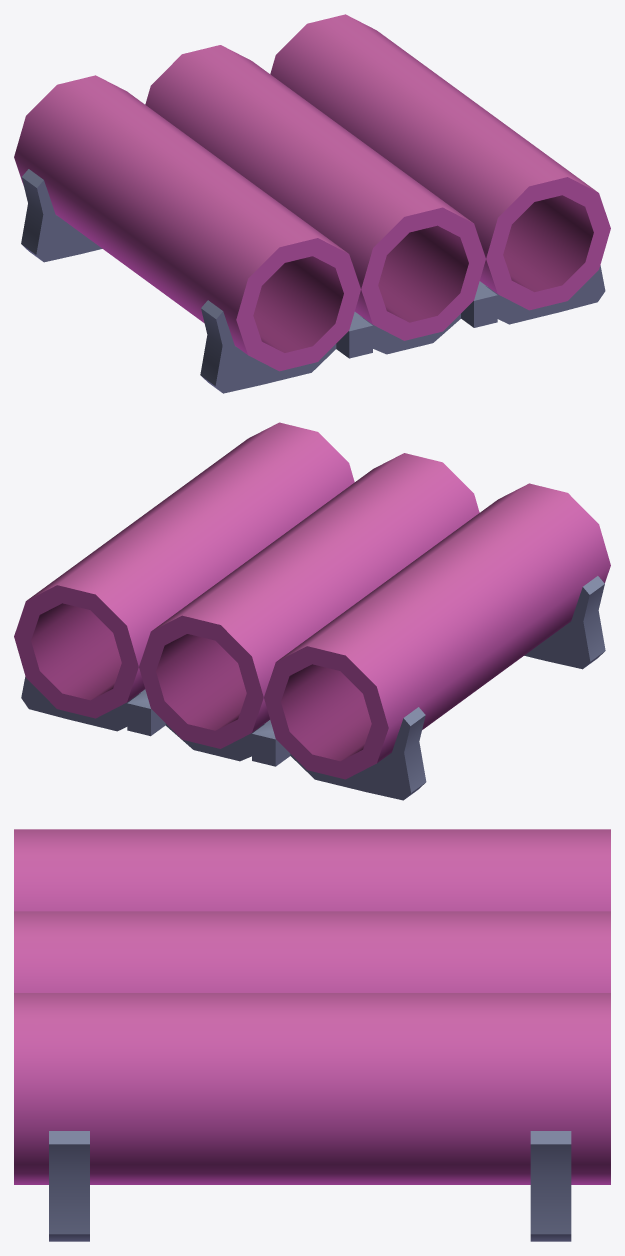
Rendered from obstacle-pipe_platform_H1W2.glb.
The picture shows the model from 3 angles, top to bottom: view 1: azimuth 30°, elevation 25°; view 2: azimuth 150°, elevation 25°; view 3: azimuth 270°, elevation 25°; orthographic projection. The views are drawn at different scales.
Visible parts, largest first — view 1: obstacle-pipe_platform_H1W2; view 2: obstacle-pipe_platform_H1W2; view 3: obstacle-pipe_platform_H1W2.
Part boxes in pixels (x1=…): obstacle-pipe_platform_H1W2: x1=14, y1=14, x2=610, y2=393; obstacle-pipe_platform_H1W2: x1=14, y1=422, x2=610, y2=800; obstacle-pipe_platform_H1W2: x1=14, y1=829, x2=610, y2=1241.
Size of the model in its own units: 6.08 by 2.18 by 6.
